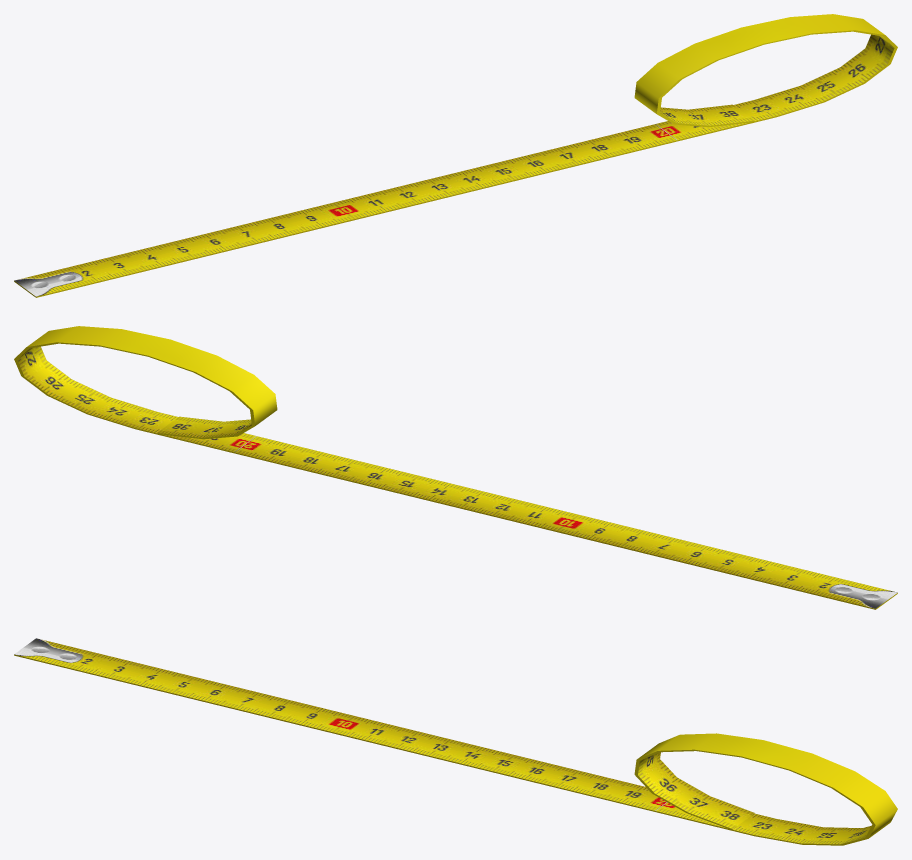
File: t.tape.fbx
3 views of the same model, one above another, from view 1: azimuth 30°, elevation 25°; view 2: azimuth 150°, elevation 25°; view 3: azimuth 330°, elevation 25° (orthographic).
Parts seen in each view (by area): view 1: tape; view 2: tape; view 3: tape.
Boxes of the visible parts, box(x1,y1,x2,y2) form: tape: box(14, 14, 897, 297); tape: box(14, 326, 897, 609); tape: box(14, 638, 897, 845).
Size of the model in its own units: 109 by 9.29 by 4.88.
Materials: 1 (1 with a texture image).
